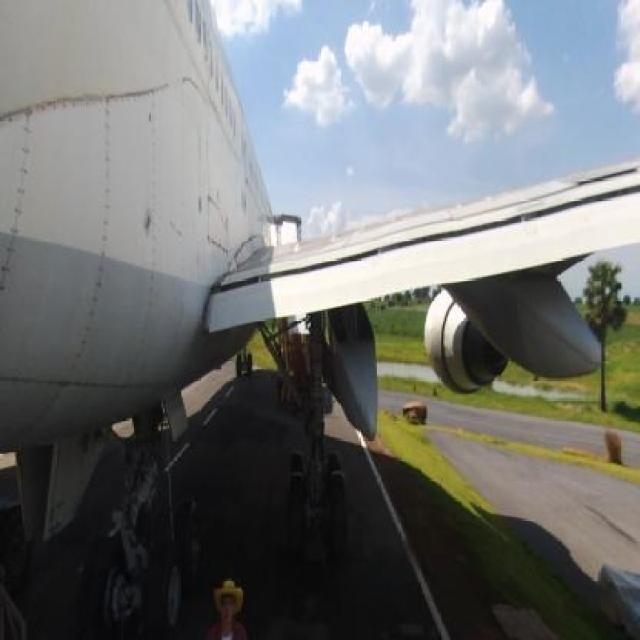Missing-Rivet: (78, 81, 118, 324), (27, 88, 181, 130), (143, 91, 169, 318), (19, 359, 166, 396), (5, 104, 38, 250), (203, 224, 240, 250)
